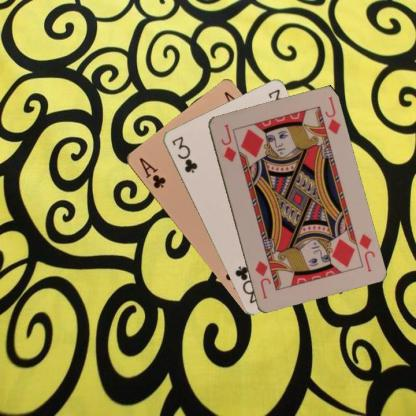3c: (168, 134, 198, 174)
Ac: (136, 155, 167, 190)
Jd: (356, 230, 376, 274), (218, 122, 237, 164)
